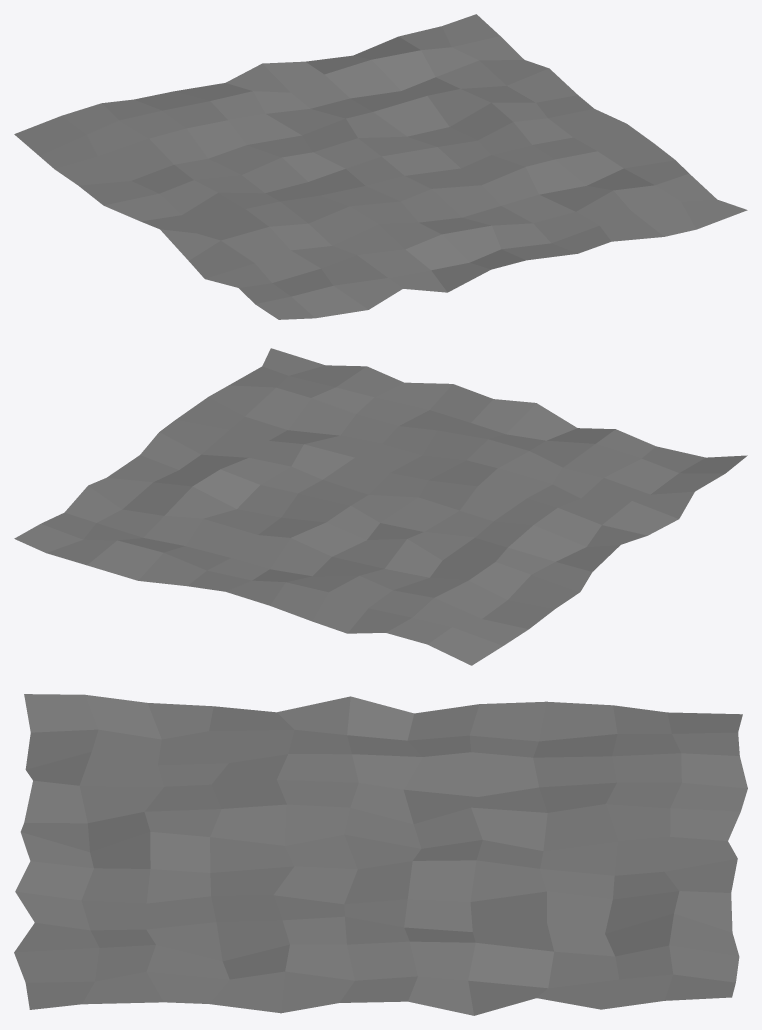
The model's file is moonSurface.glb.
The picture shows the model from 3 angles, top to bottom: view 1: azimuth 30°, elevation 25°; view 2: azimuth 150°, elevation 25°; view 3: azimuth 270°, elevation 25°; orthographic projection. The views are drawn at different scales.
Parts seen in each view (by area): view 1: Plane; view 2: Plane; view 3: Plane.
Boxes of the visible parts, left/top/right/bottom form: Plane: left=14, top=14, right=747, bottom=319; Plane: left=14, top=348, right=747, bottom=665; Plane: left=14, top=694, right=747, bottom=1015.
Size of the model in its own units: 30.02 by 0.848 by 30.04.
Materials: 1 (1 with a texture image).
